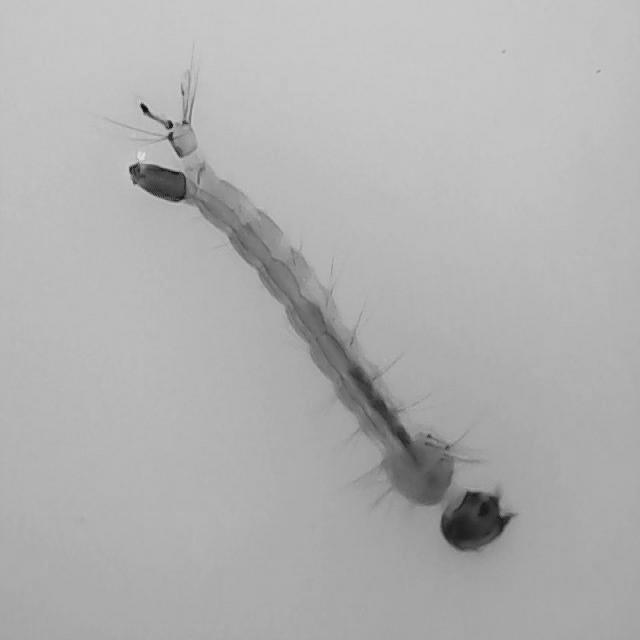larvas: (128, 98, 510, 550)
